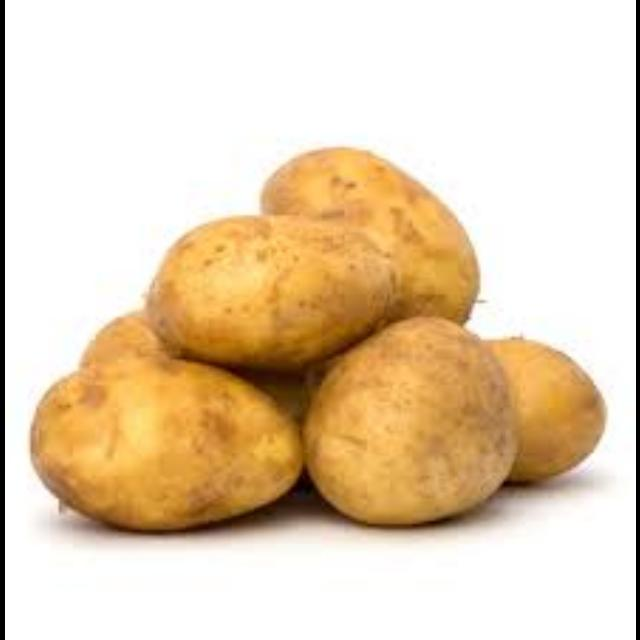Potato: (18, 347, 312, 533), (282, 311, 530, 527), (254, 137, 483, 336), (141, 212, 397, 366)
